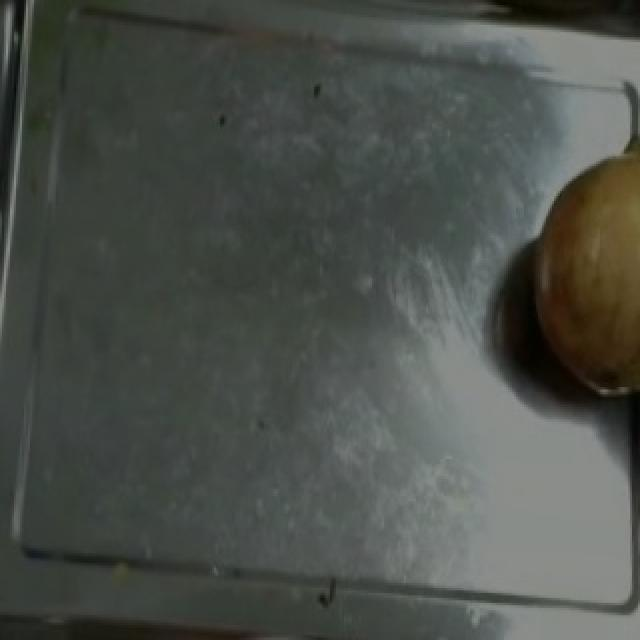fruit: (518, 126, 640, 407)
